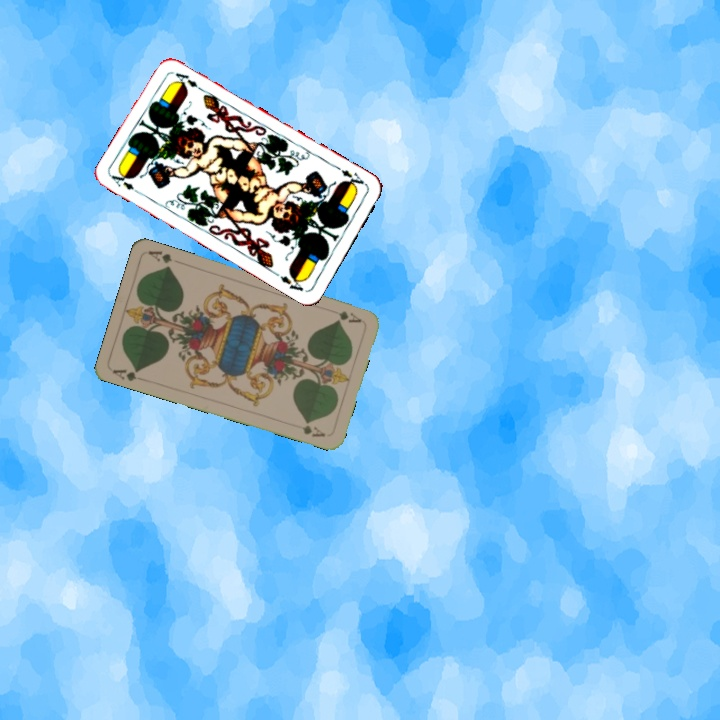EA: (107, 168, 145, 197), (332, 162, 369, 191)
GA: (325, 305, 364, 325), (109, 365, 143, 384)
